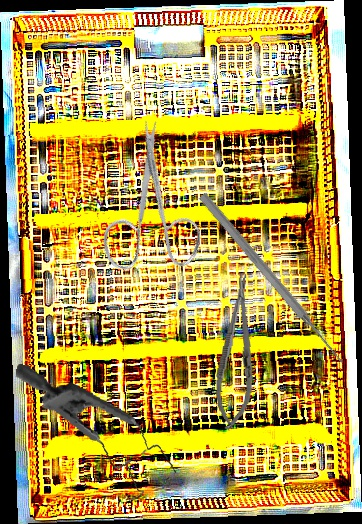Iris Scissors: (53, 113, 240, 302)
Needle Holder: (211, 271, 263, 433)
Pusher: (196, 191, 348, 367)
Speculum: (0, 363, 188, 507)
